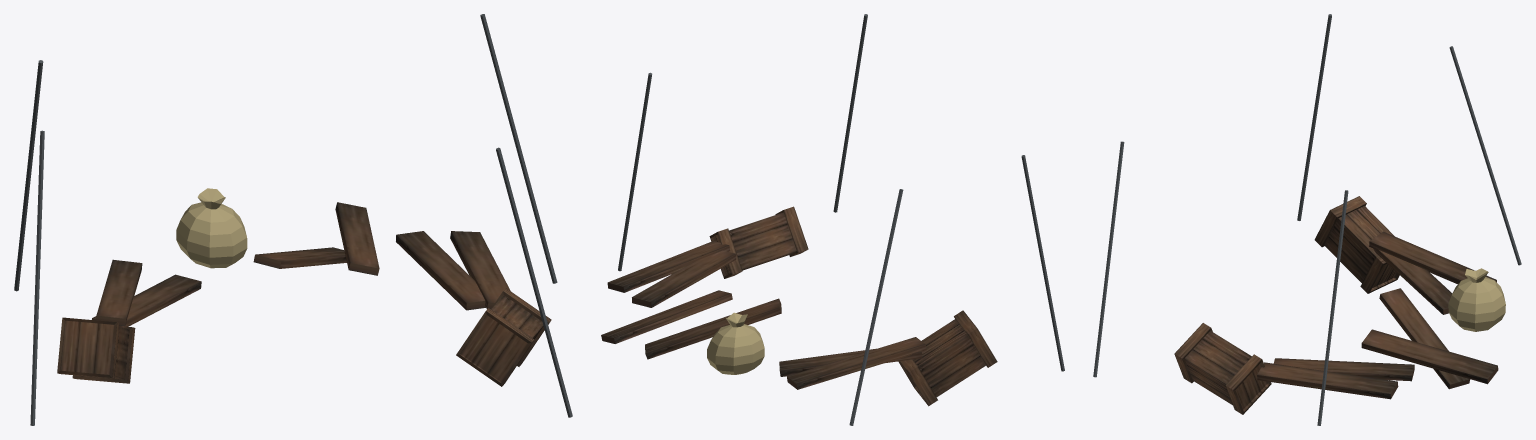
File: ArcherTent1.fbx
3 views of the same model, side by side, from view 1: azimuth 30°, elevation 25°; view 2: azimuth 150°, elevation 25°; view 3: azimuth 270°, elevation 25° (orthographic). The views are drawn at different scales.
Parts seen in each view (by area): view 1: ArcherTentFirst; view 2: ArcherTentFirst; view 3: ArcherTentFirst.
Part boxes in pixels (<box>): ArcherTentFirst: <box>14,14,572,425</box>; ArcherTentFirst: <box>601,14,1064,425</box>; ArcherTentFirst: <box>1093,14,1521,425</box>.
Bounding box in the file's own units: 16.91 × 8.9 × 14.63.
